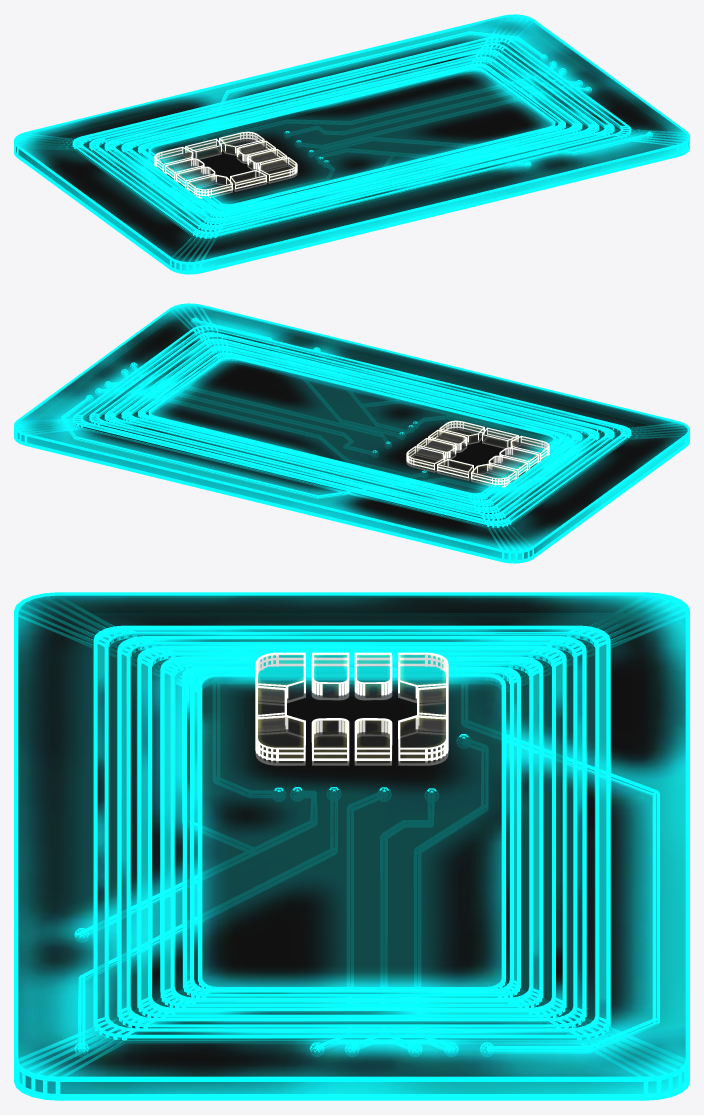
Rendered from Card-transformed.glb.
3 renders of one model, top to bottom at view 1: azimuth 30°, elevation 25°; view 2: azimuth 150°, elevation 25°; view 3: azimuth 270°, elevation 25°, orthographic. The views are drawn at different scales.
Parts seen in each view (by area): view 1: Bottom, Top, Cube.002; view 2: Bottom, Top, Cube.002; view 3: Bottom, Top, Cube.002.
Boxes of the visible parts, x1,y1,x2,y2 form: Bottom: (14, 16, 689, 274); Top: (14, 14, 689, 273); Cube.002: (154, 131, 297, 198); Bottom: (14, 305, 689, 563); Top: (14, 303, 689, 562); Cube.002: (406, 420, 549, 487); Bottom: (14, 596, 689, 1100); Top: (14, 592, 689, 1098); Cube.002: (255, 652, 448, 765).
Size of the model in its own units: 3.41 by 0.1316 by 2.01.
Materials: 4 (2 with a texture image).
